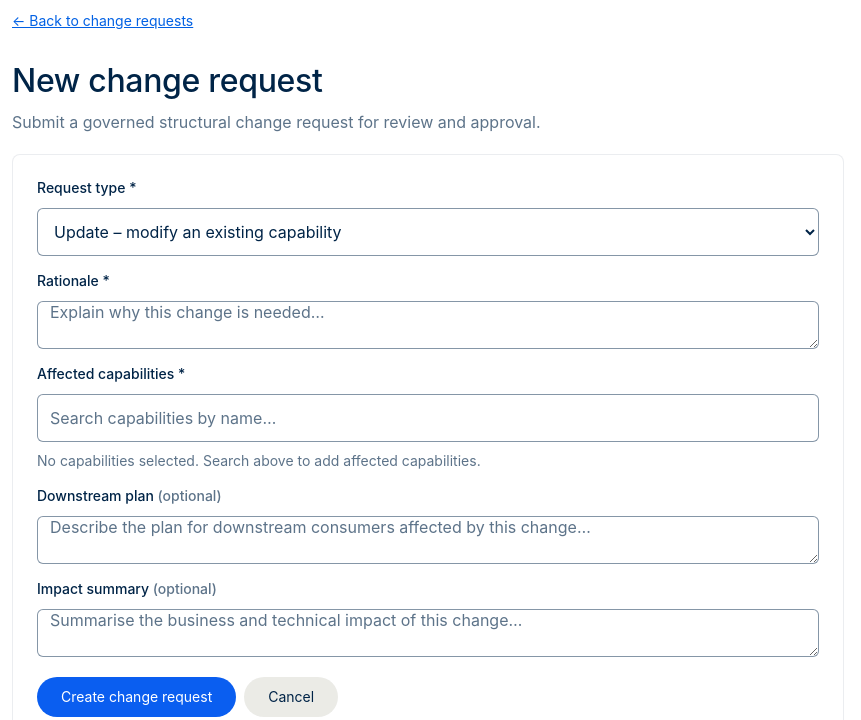
Test: ChangeRequestFormPage › shows validation error when submitting without rationale
Step 1. Click the button "Create change request" → [137, 697], box [37, 677, 236, 717]
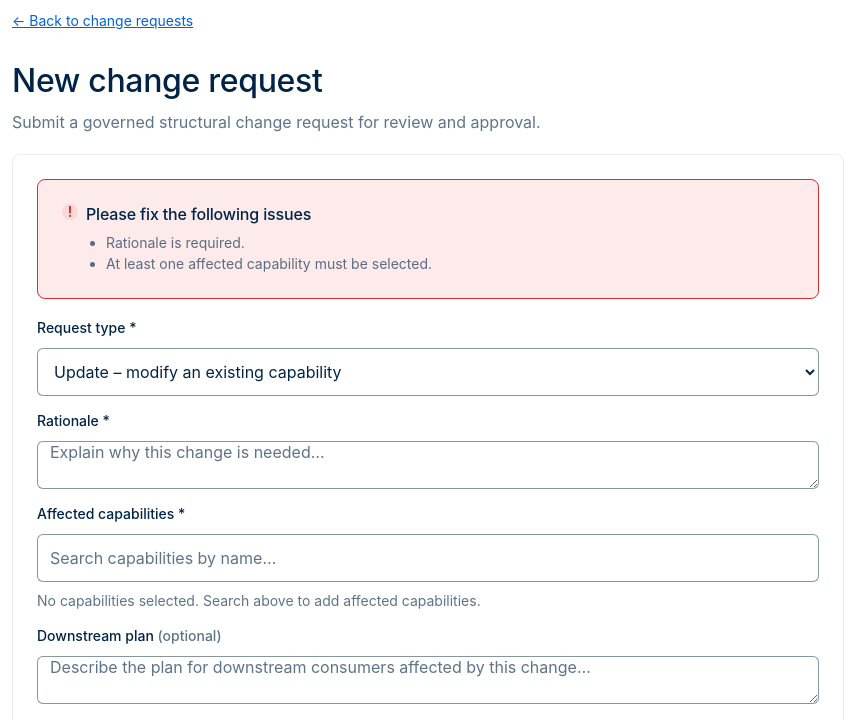
Now the list item "Rationale is required." is shown, box [106, 234, 245, 251]
